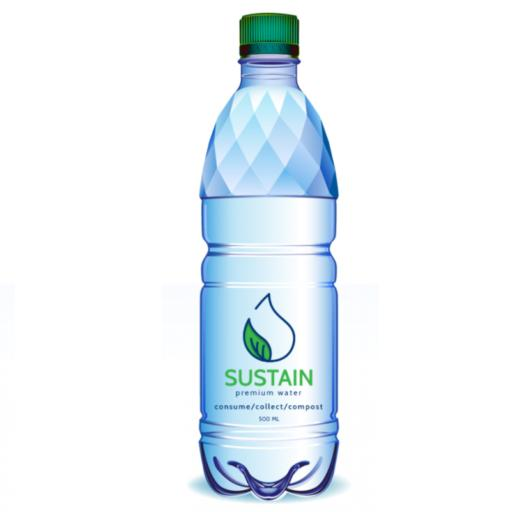plastic_bottle: (197, 9, 342, 495)
